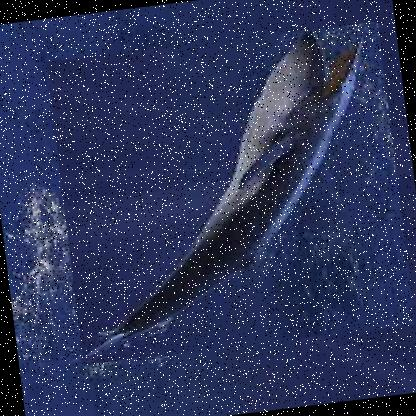blue_whale: (44, 20, 414, 364)
